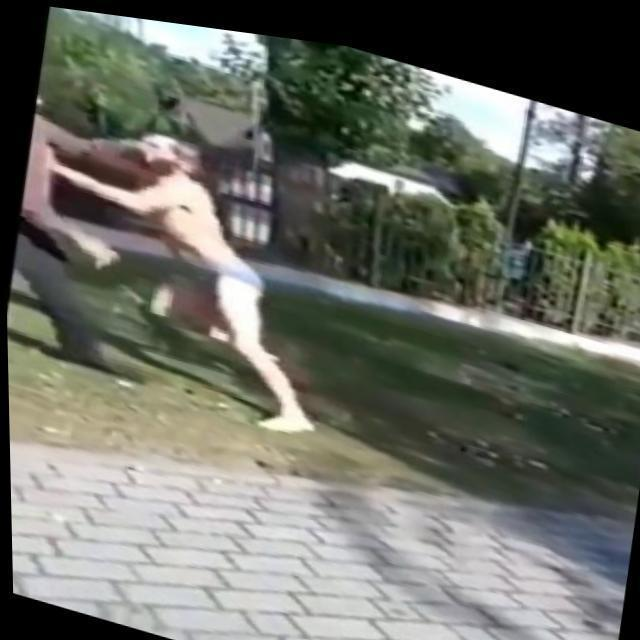fight: (2, 85, 356, 448)
